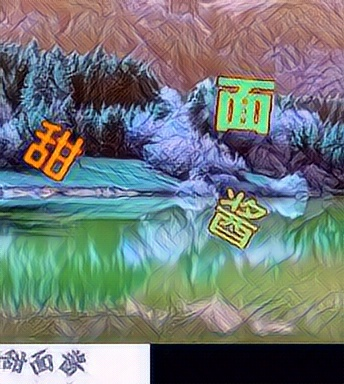BDB4: (203, 186, 268, 253)
C3E6: (211, 69, 276, 136)
CCF0: (21, 119, 86, 186)
